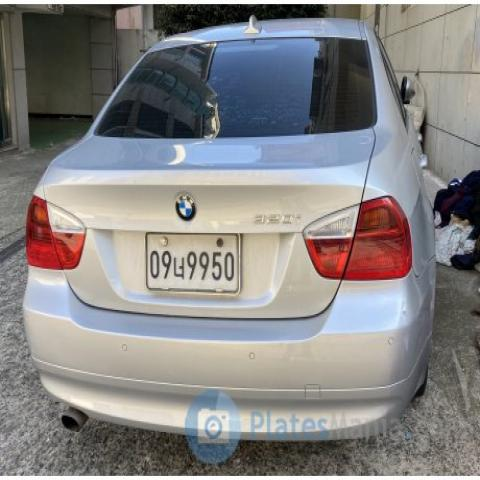LP: (138, 228, 252, 299)
